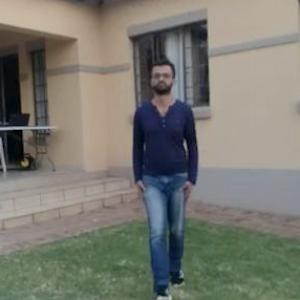follow: (129, 53, 198, 261)
